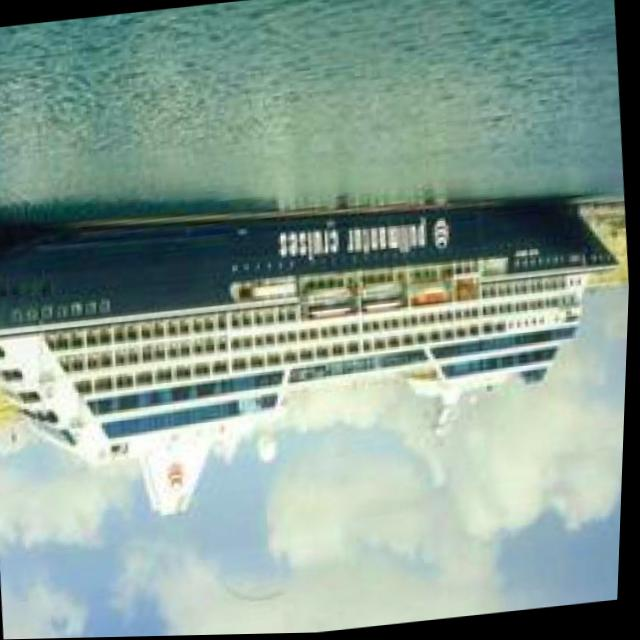ship2: (0, 201, 616, 512)
